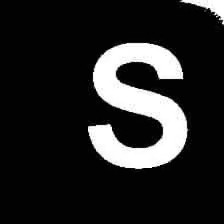LTR_S: (81, 30, 191, 173)
